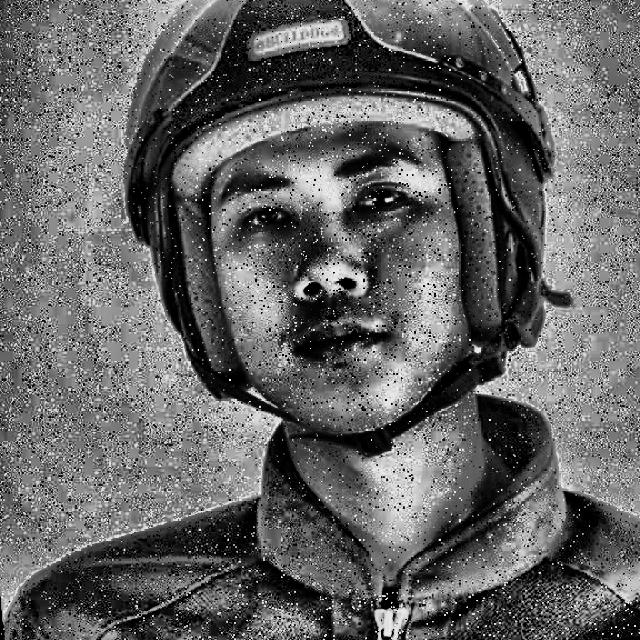Helmet: (60, 0, 602, 519)
